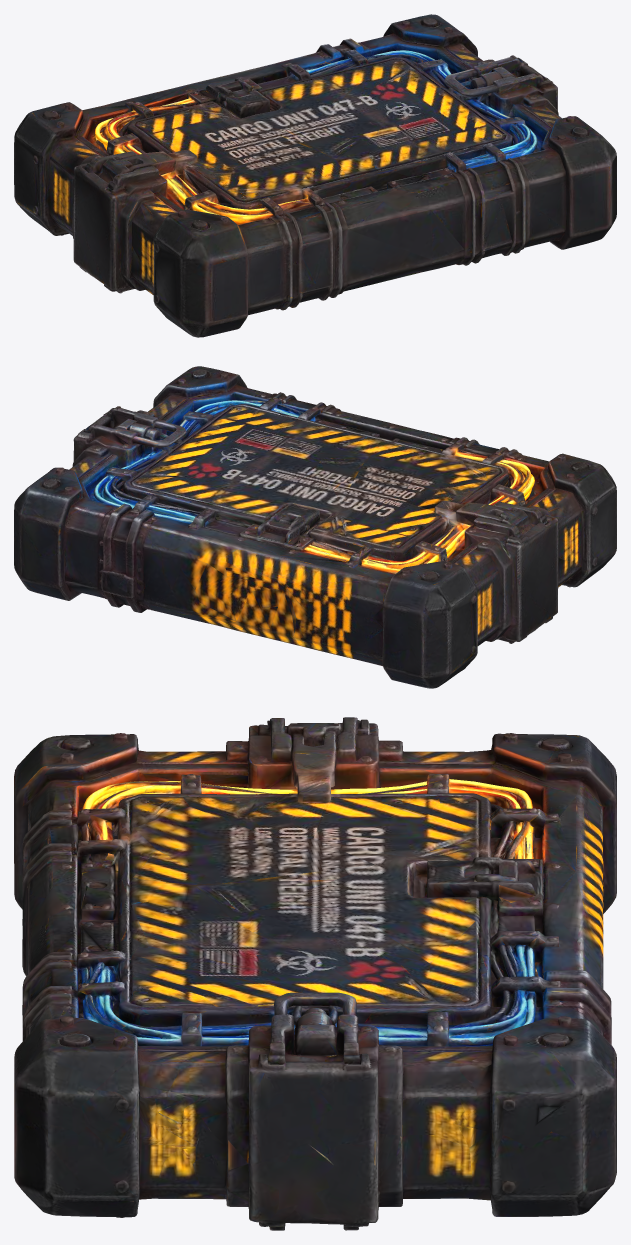
Rendered from cargo-box.glb.
3 renders of one model, top to bottom at view 1: azimuth 30°, elevation 25°; view 2: azimuth 150°, elevation 25°; view 3: azimuth 270°, elevation 25°, orthographic. The views are drawn at different scales.
Visible parts, largest first — view 1: cargo-box; view 2: cargo-box; view 3: cargo-box.
Part boxes in pixels (x1,y1,x2,y2): cargo-box: [14, 14, 616, 337]; cargo-box: [14, 366, 616, 688]; cargo-box: [14, 717, 616, 1230].
Size of the model in its own units: 1.9 by 0.4794 by 1.39.
1 material, 1 textured.
